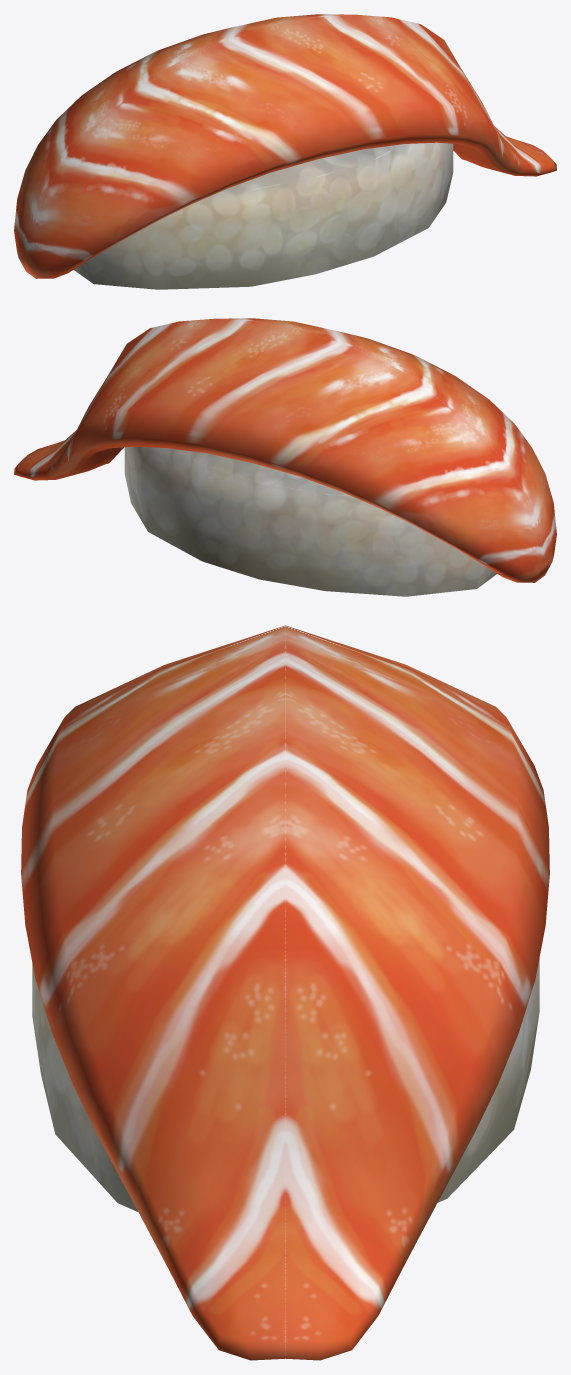
The model's file is sushi02.obj.
The picture shows the model from 3 angles, top to bottom: view 1: azimuth 30°, elevation 25°; view 2: azimuth 150°, elevation 25°; view 3: azimuth 270°, elevation 25°; orthographic projection. The views are drawn at different scales.
Visible parts, largest first — view 1: sushi02_Mesh; view 2: sushi02_Mesh; view 3: sushi02_Mesh.
Part boxes in pixels (<box>): sushi02_Mesh: <box>14,14,556,289</box>; sushi02_Mesh: <box>14,318,556,596</box>; sushi02_Mesh: <box>21,625,549,1360</box>.
Bounding box in the file's own units: 5.14 × 1.9 × 2.25.
Materials: 1 (1 with a texture image).
